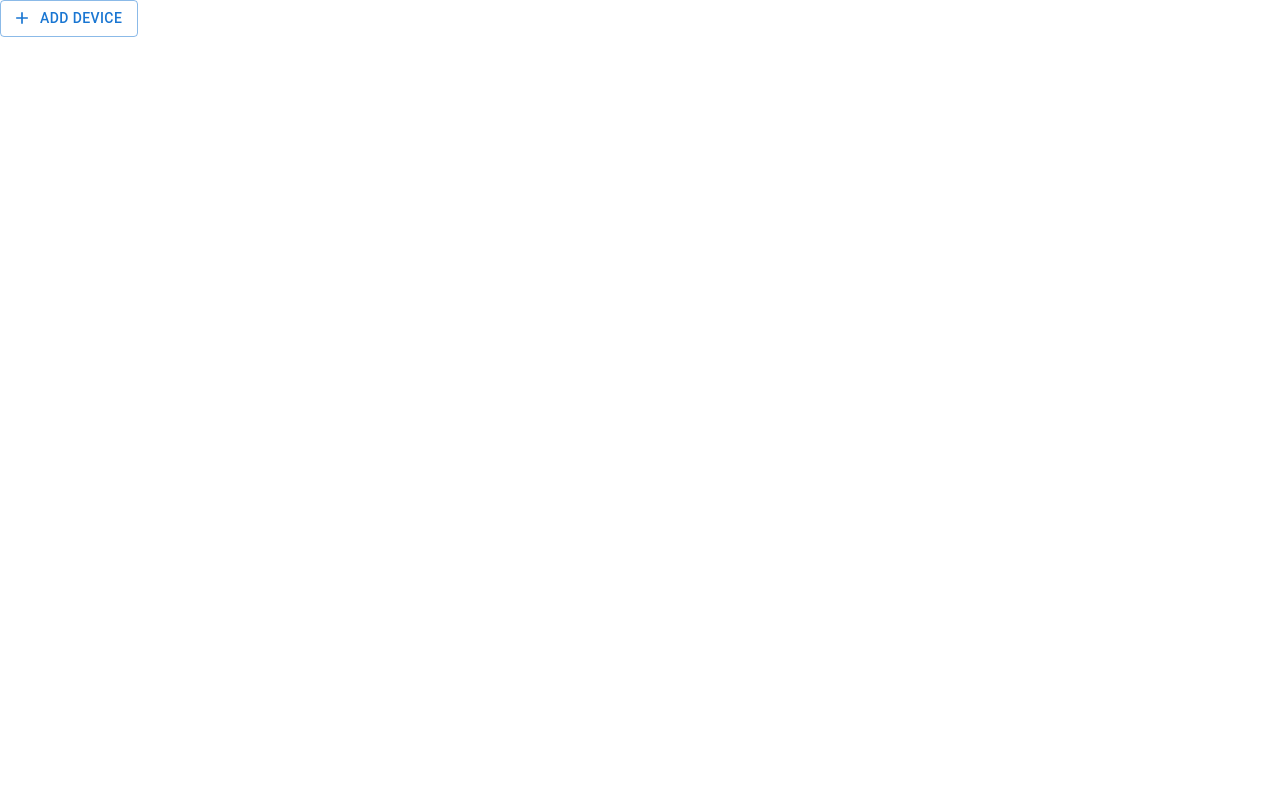
Test: AddDeviceButton › lists devices by room, adds the picked one and closes
Step 1. Click the button "Add device" → (69, 18), box 0,0 -> 138,36
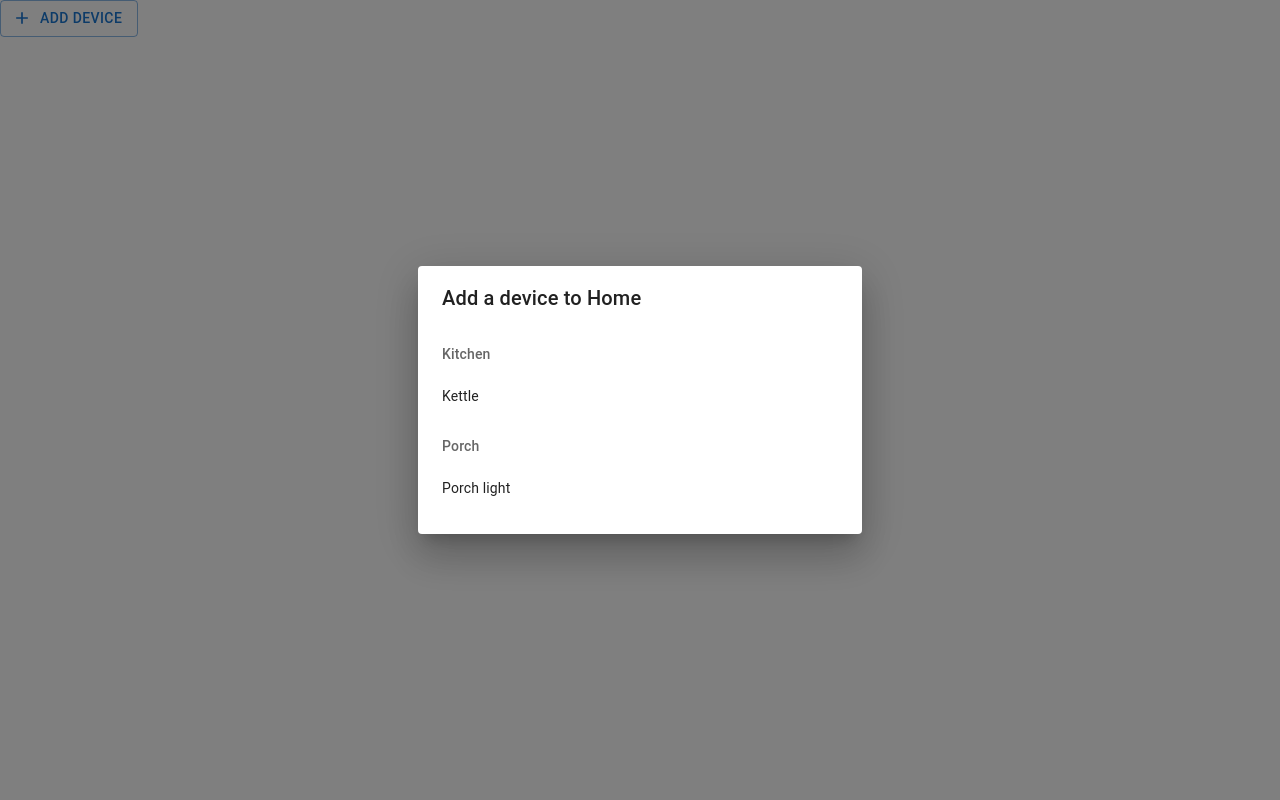
Expected: the list item "Kitchen" is shown, 442,346 -> 490,362
Expected: the list item "Porch" is shown, 442,438 -> 480,454
Step 2. Click the button "Porch light" → (476, 488), box 442,480 -> 510,496
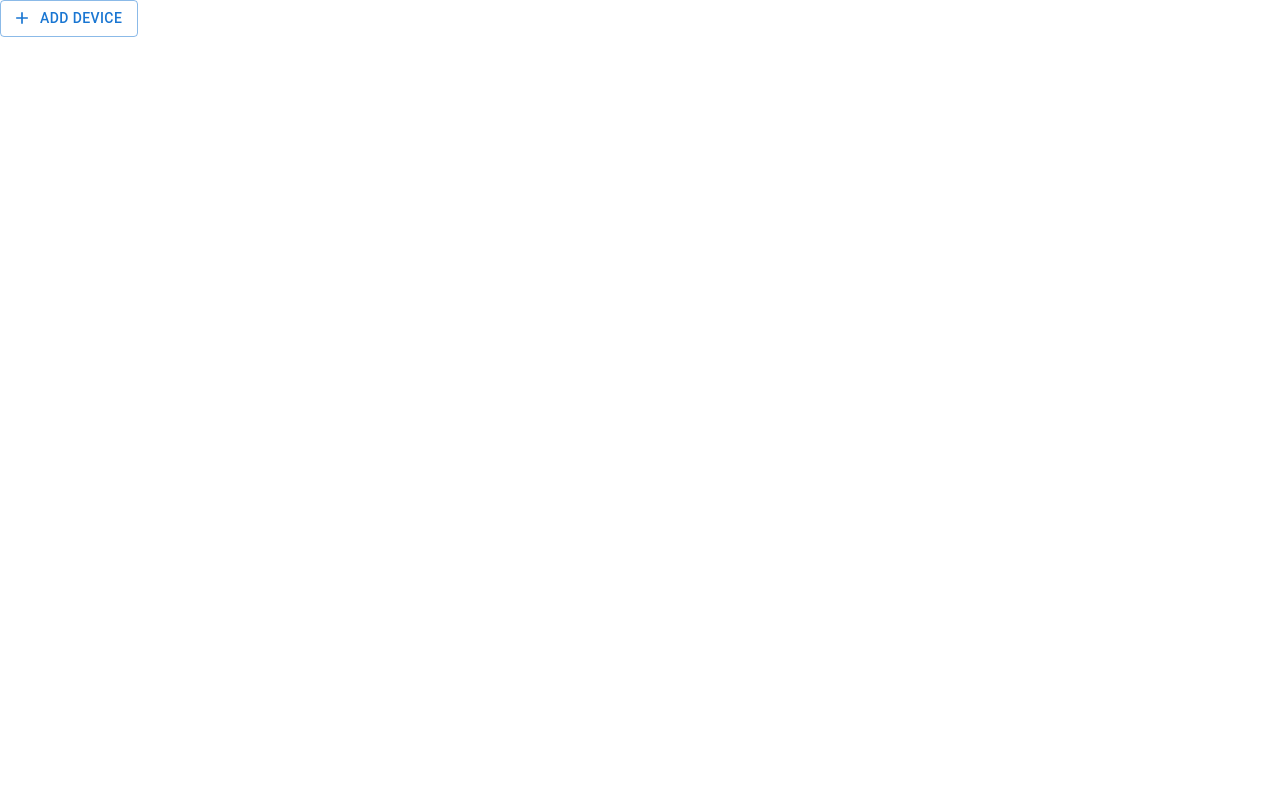
Expected: the dialog is gone
